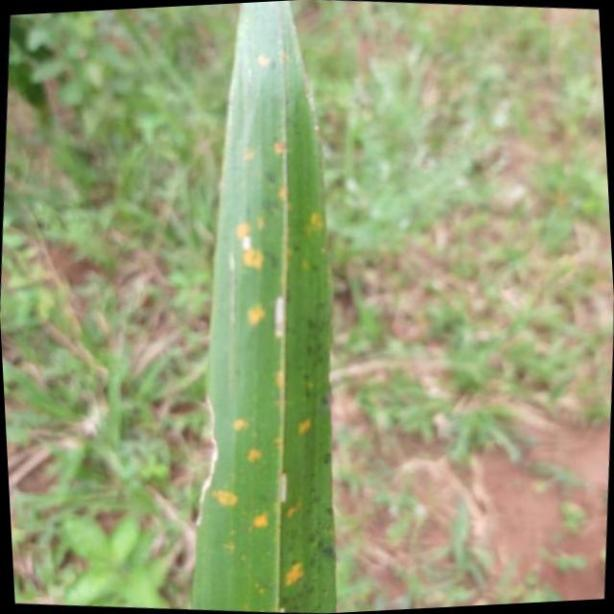Kalium: (194, 0, 332, 614)
